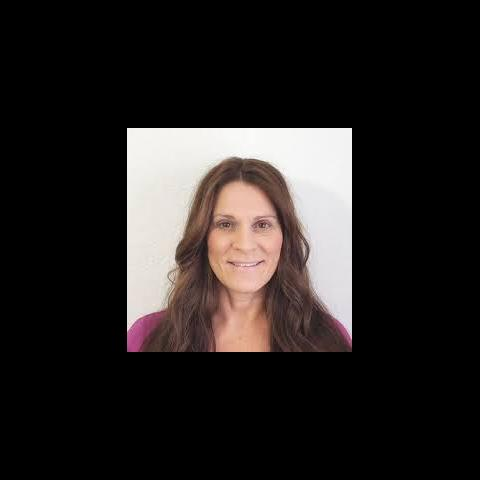opened: (202, 206, 286, 240)
